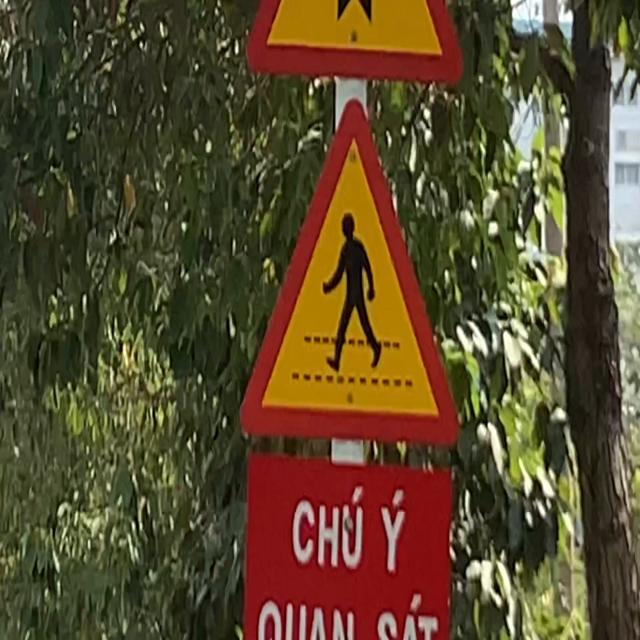Nguoi di bo cat ngang: (237, 94, 463, 454)
